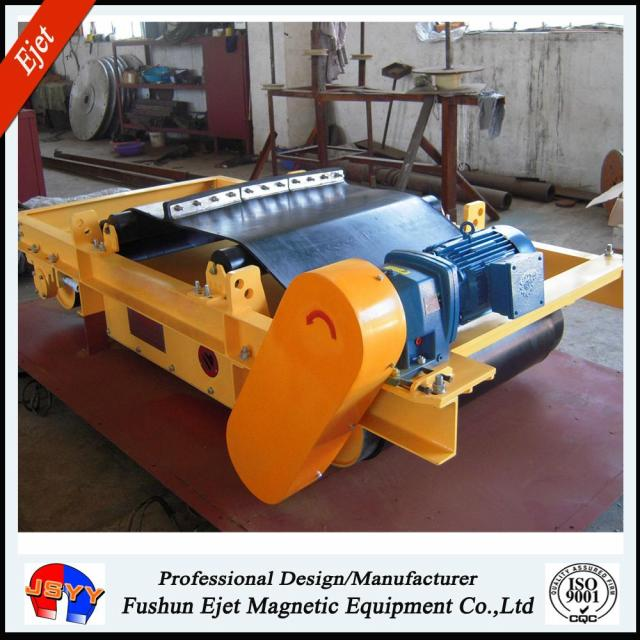Convoyeur: (110, 175, 460, 304)
